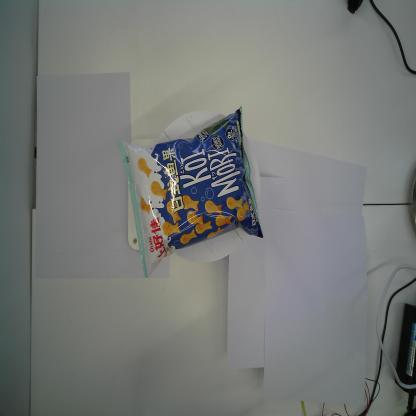Puffed Food: (117, 105, 264, 279)
